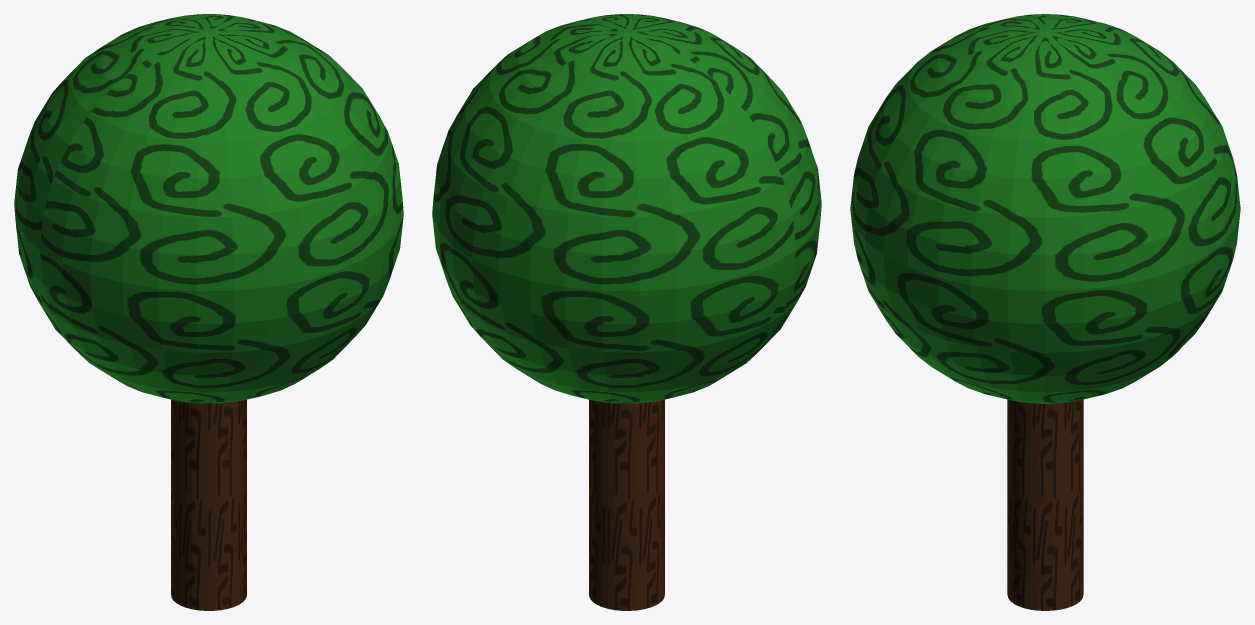
The model's file is tree.fbx.
3 renders of one model, left to right at view 1: azimuth 30°, elevation 25°; view 2: azimuth 150°, elevation 25°; view 3: azimuth 270°, elevation 25°, orthographic.
Visible parts, largest first — view 1: Sphere, Cylinder; view 2: Sphere, Cylinder; view 3: Sphere, Cylinder.
Boxes of the visible parts, x1,y1,x2,y2 form: Sphere: [14, 14, 403, 403]; Cylinder: [171, 399, 246, 610]; Sphere: [432, 14, 821, 403]; Cylinder: [589, 399, 664, 610]; Sphere: [850, 14, 1240, 403]; Cylinder: [1007, 399, 1083, 610].
Bounding box in the file's own units: 1027 × 1634 × 1027.
